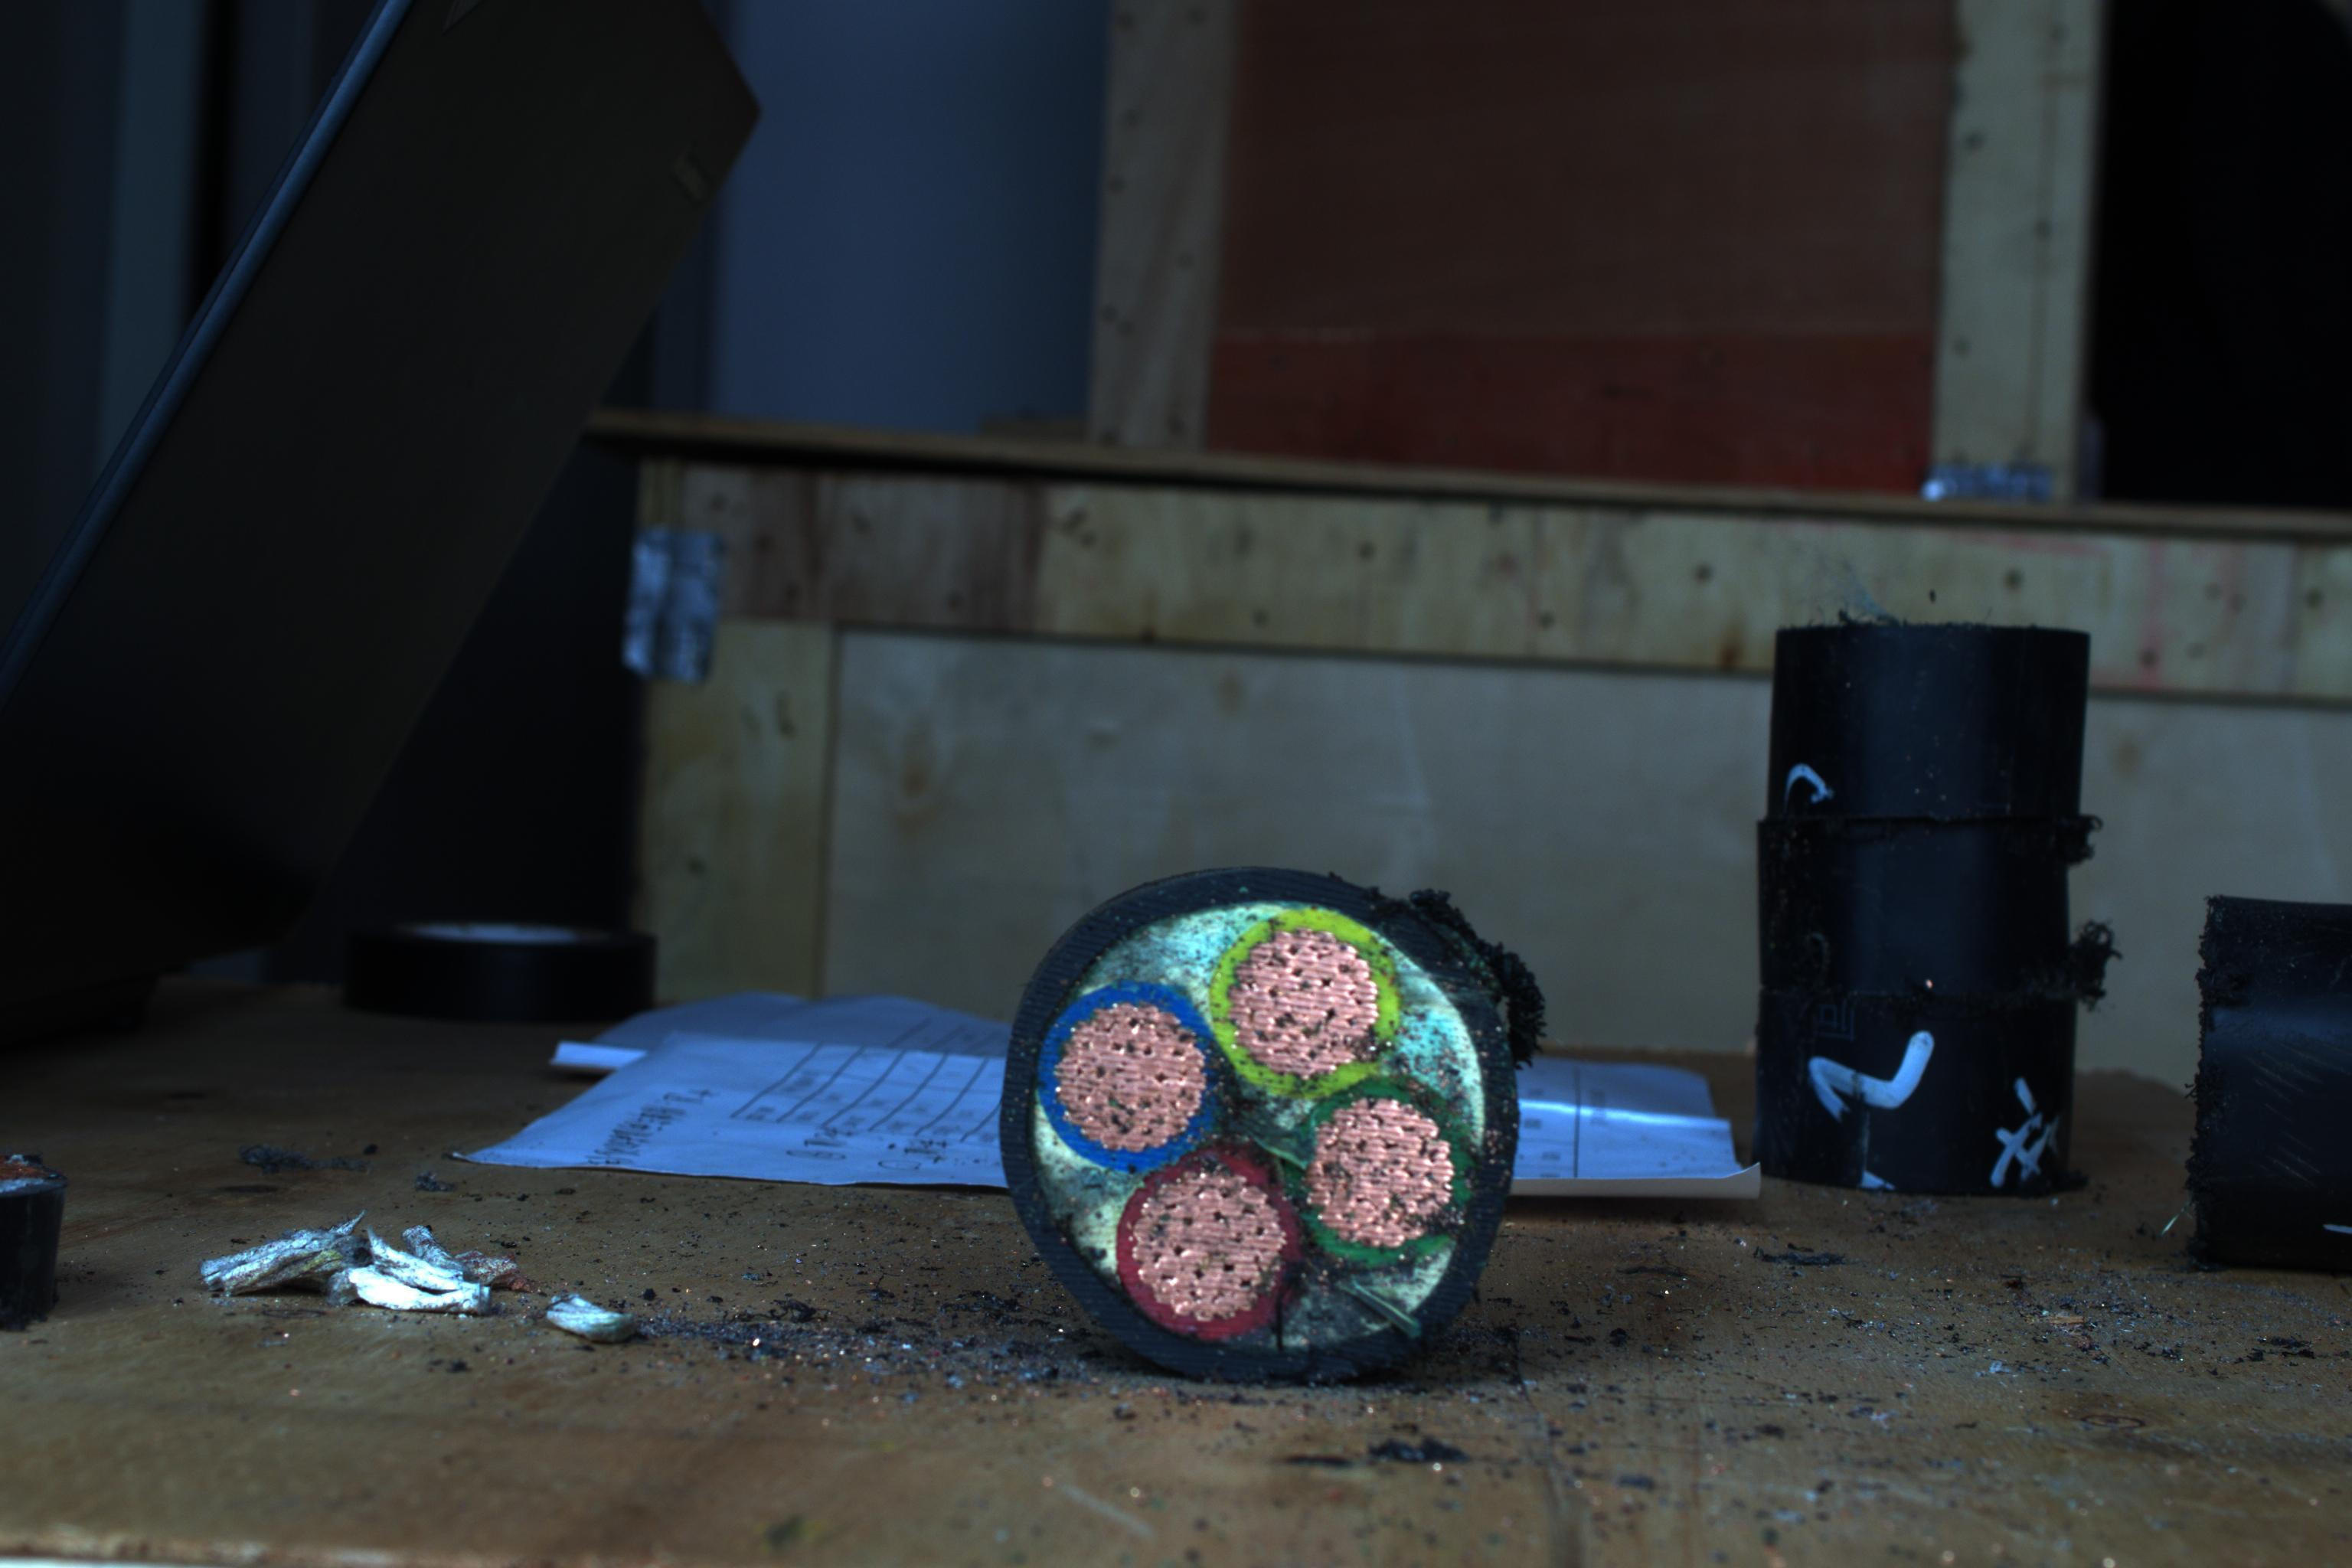YJV_0.6_1kV_4x185: (994, 878, 1501, 1353)
